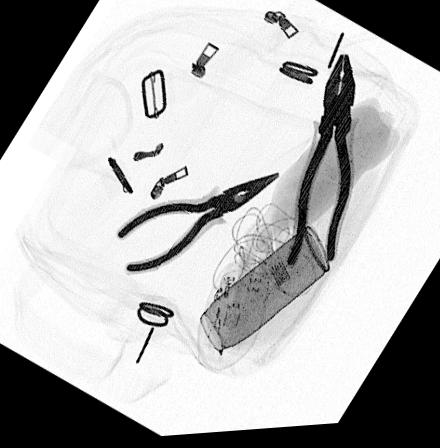Pliers: (113, 174, 280, 276), (280, 57, 357, 275)
